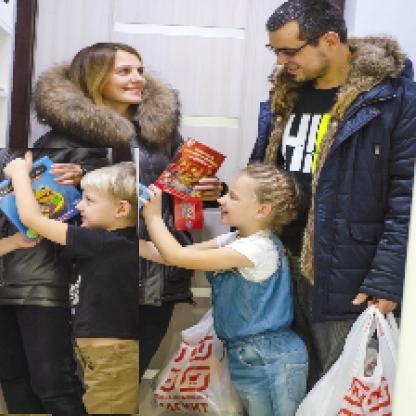child: (100, 165, 312, 416), (1, 149, 141, 416)
